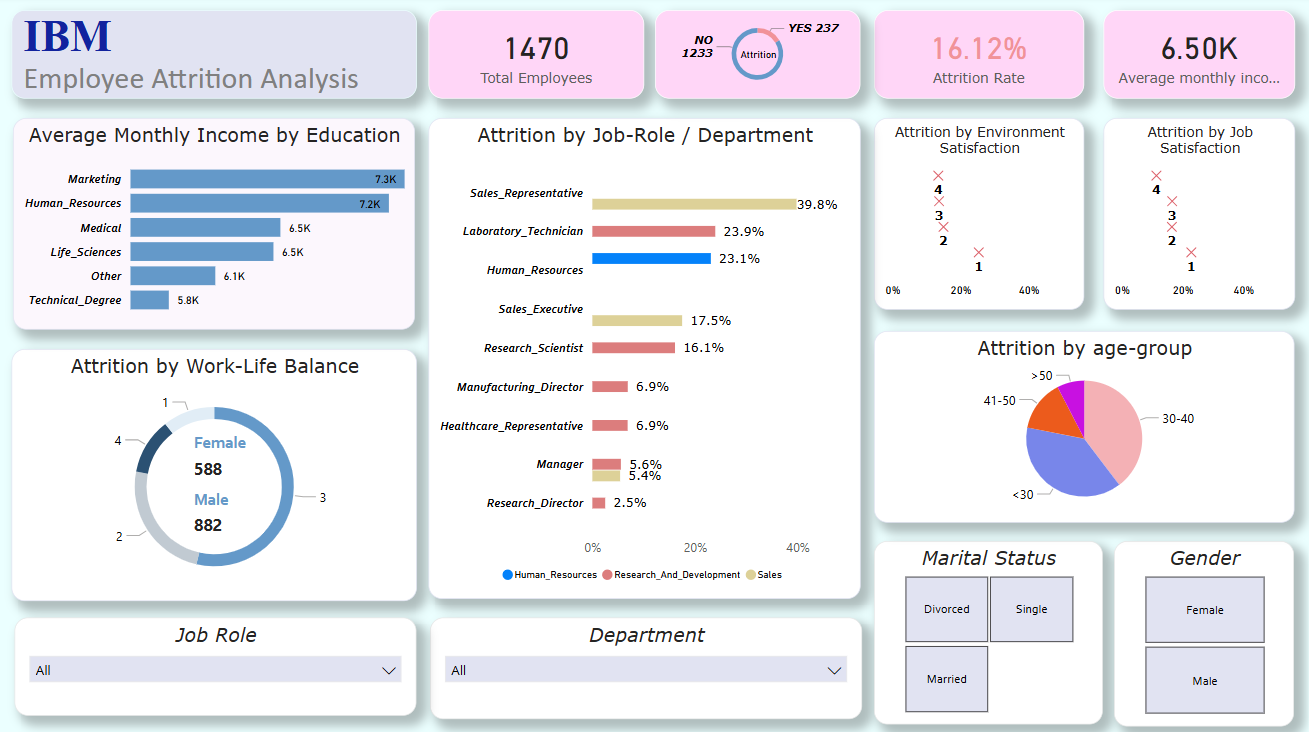

Layout of this report page (visuals, bound fields, positions):
{"tool":"powerbi","page":{"name":"Dashboard","canvas":[1280,720],"ordinal":0},"visuals":[{"type":"textbox","title":"IBM","box":[16.2,14.6,393.5,85.8],"z":0},{"type":"donutChart","title":"Attrition by Work-Life Balance ","fields":{"Category":["IBM_HR_Analysis.WORK_LIFE_BALANCE"],"Y":["IBM_HR_Analysis.ATTRITION_YES"]},"box":[16.2,343.3,393.5,244.5],"z":1000},{"type":"card","fields":{"Values":["IBM_HR_Analysis.EID"]},"box":[420.7,14.6,209.6,85.9],"z":2000},{"type":"card","fields":{"Values":["IBM_HR_Analysis.ATTRITION_RATE"]},"box":[853.3,14.6,204,85.8],"z":3000},{"type":"card","fields":{"Values":["IBM_HR_Analysis.MONTHLY_INCOME"]},"box":[1075.2,14.6,186.2,85.8],"z":4000},{"type":"barChart","title":"Average Monthly Income by Education","fields":{"Category":["IBM_HR_Analysis.EDUCATION_FIELD"],"Y":["IBM_HR_Analysis.MONTHLY_INCOME"]},"box":[17.8,119.8,390.2,205.6],"z":5000},{"type":"scatterChart","title":"Attrition by Job Satisfaction","fields":{"X":["IBM_HR_Analysis.ATTRITION_RATE"],"Y":["IBM_HR_Analysis.JOB_SATISFACTION"]},"box":[1075.2,119.8,186.2,186.2],"z":6000},{"type":"scatterChart","title":"Attrition by Environment Satisfaction","fields":{"X":["IBM_HR_Analysis.ATTRITION_RATE"],"Y":["IBM_HR_Analysis.ENVIRONMENT_SATISFACTION"]},"box":[853.3,119.8,204,186.2],"z":7000},{"type":"multiRowCard","fields":{"Values":["IBM_HR_Analysis.GENDER","IBM_HR_Analysis.EMPLOYEE_COUNT"]},"box":[187.8,419.4,77.7,132.8],"z":8000},{"type":"clusteredBarChart","title":"Attrition by Job-Role / Department","fields":{"Series":["IBM_HR_Analysis.DEPARTMENT"],"Category":["IBM_HR_Analysis.JOB_ROLE"],"Y":["IBM_HR_Analysis.ATTRITION_RATE"]},"box":[421,119.8,419.4,466.3],"z":9000},{"type":"slicer","title":"Department","fields":{"Values":["IBM_HR_Analysis.DEPARTMENT"]},"box":[421.5,604,419.4,98.8],"z":10000},{"type":"slicer","title":"Job Role","fields":{"Values":["IBM_HR_Analysis.JOB_ROLE"]},"box":[19.4,604,390.2,95.5],"z":11000},{"type":"slicer","title":"Marital Status","fields":{"Values":["IBM_HR_Analysis.MARITAL_STATUS"]},"box":[852.8,529.5,221.8,178.1],"z":12000},{"type":"slicer","title":"Gender","fields":{"Values":["IBM_HR_Analysis.GENDER"]},"box":[1086.5,530,174.9,179.7],"z":13000},{"type":"donutChart","title":"Attrition","fields":{"Y":["IBM_HR_Analysis.ATTRITION_YES","IBM_HR_Analysis.ATTRITION_NO"]},"box":[640.4,14.6,199.4,85.9],"z":14000},{"type":"textbox","box":[707.4,40.8,67,33.5],"z":15000},{"type":"pieChart","title":"Attrition by age-group","fields":{"Category":["IBM_HR_Analysis.AGE_GROUP"],"Y":["IBM_HR_Analysis.ATTRITION_YES"]},"box":[853.3,325.5,408,186.2],"z":16000}]}

Visuals, with their boxes in screenshot pixels (x1, y1, x2, y2), scaled from the page's 1280x720 canvas onto the 1309x732 screenshot:
"IBM" textbox: BBox(17, 15, 419, 102)
"Attrition by Work-Life Balance " donutChart: BBox(17, 349, 419, 598)
card - IBM_HR_Analysis.EID: BBox(430, 15, 645, 102)
card - IBM_HR_Analysis.ATTRITION_RATE: BBox(873, 15, 1081, 102)
card - IBM_HR_Analysis.MONTHLY_INCOME: BBox(1100, 15, 1290, 102)
"Average Monthly Income by Education" barChart: BBox(18, 122, 417, 331)
"Attrition by Job Satisfaction" scatterChart: BBox(1100, 122, 1290, 311)
"Attrition by Environment Satisfaction" scatterChart: BBox(873, 122, 1081, 311)
multiRowCard - IBM_HR_Analysis.GENDER x IBM_HR_Analysis.EMPLOYEE_COUNT: BBox(192, 426, 272, 561)
"Attrition by Job-Role / Department" clusteredBarChart: BBox(431, 122, 859, 596)
"Department" slicer: BBox(431, 614, 860, 715)
"Job Role" slicer: BBox(20, 614, 419, 711)
"Marital Status" slicer: BBox(872, 538, 1099, 719)
"Gender" slicer: BBox(1111, 539, 1290, 722)
"Attrition" donutChart: BBox(655, 15, 859, 102)
textbox: BBox(723, 41, 792, 76)
"Attrition by age-group" pieChart: BBox(873, 331, 1290, 520)
